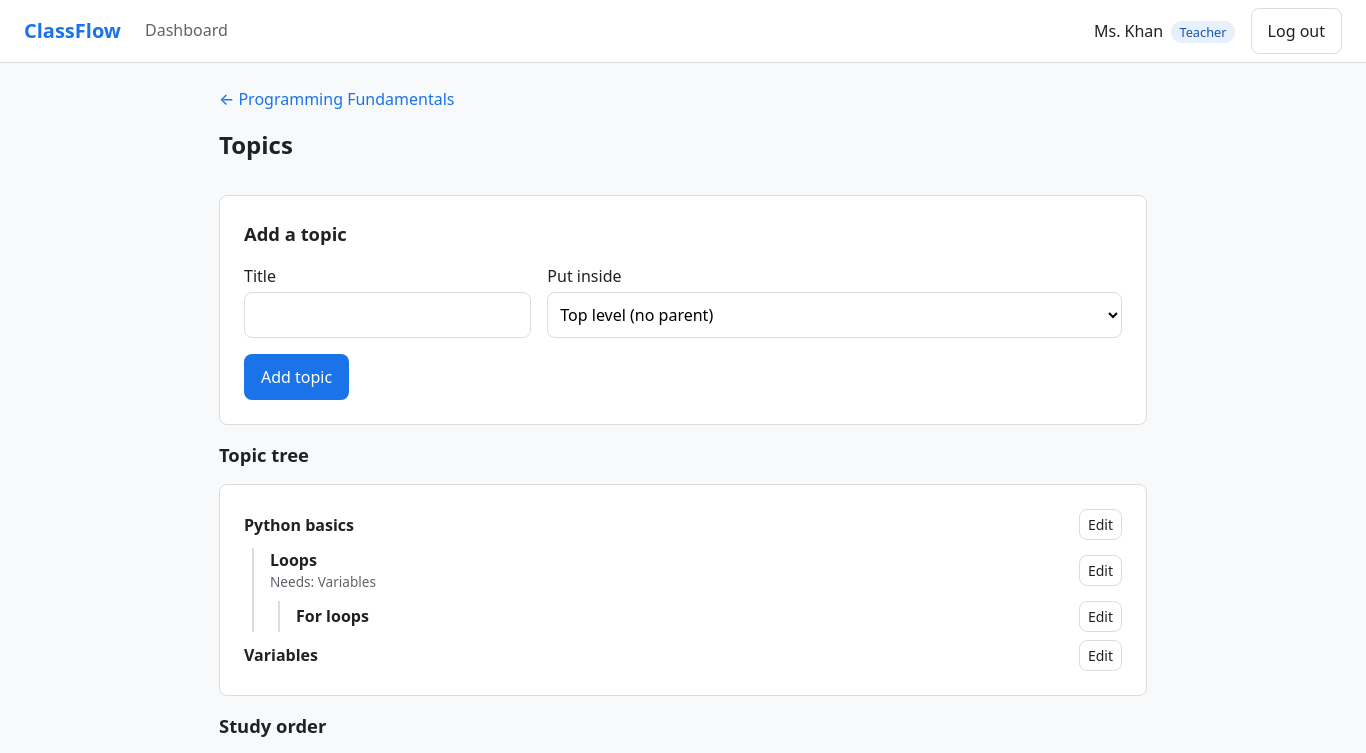
topics page (teacher) › shows the loop message when the backend refuses a prerequisite
Click the 4th button "Edit" at (1100, 655), box left=1079, top=640, right=1122, bottom=671
(page scrolled)
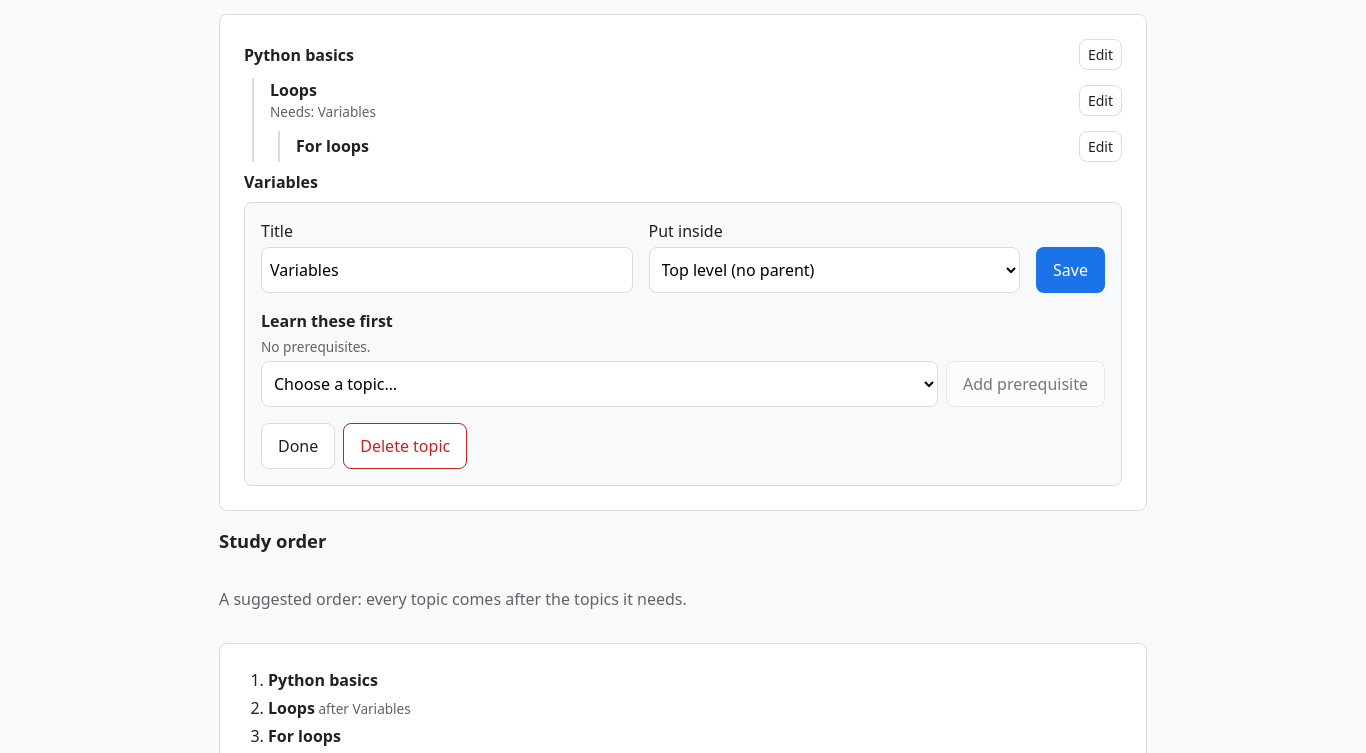
Select "· Loops" in the dropdown named "Prerequisite to add" at (600, 384), box left=261, top=361, right=938, bottom=407
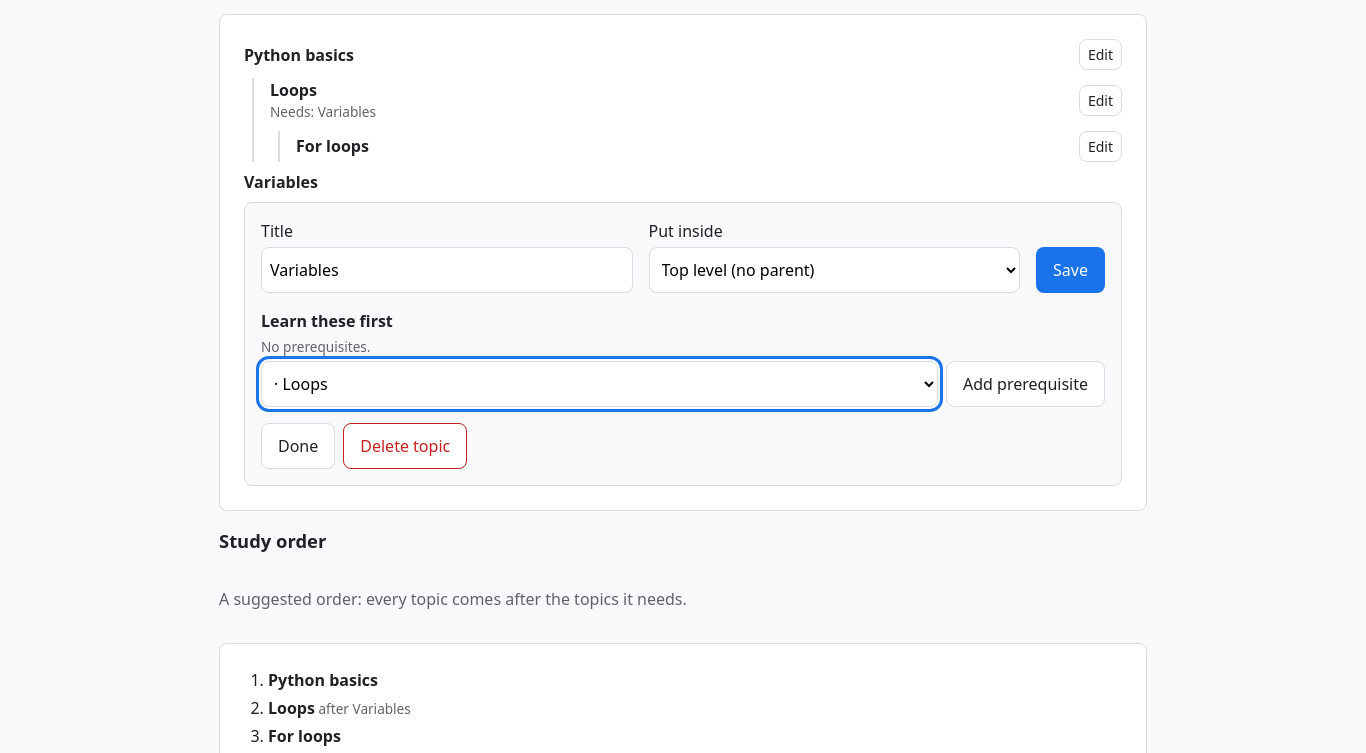
Click the button "Add prerequisite" at (1026, 384), box left=946, top=361, right=1105, bottom=407
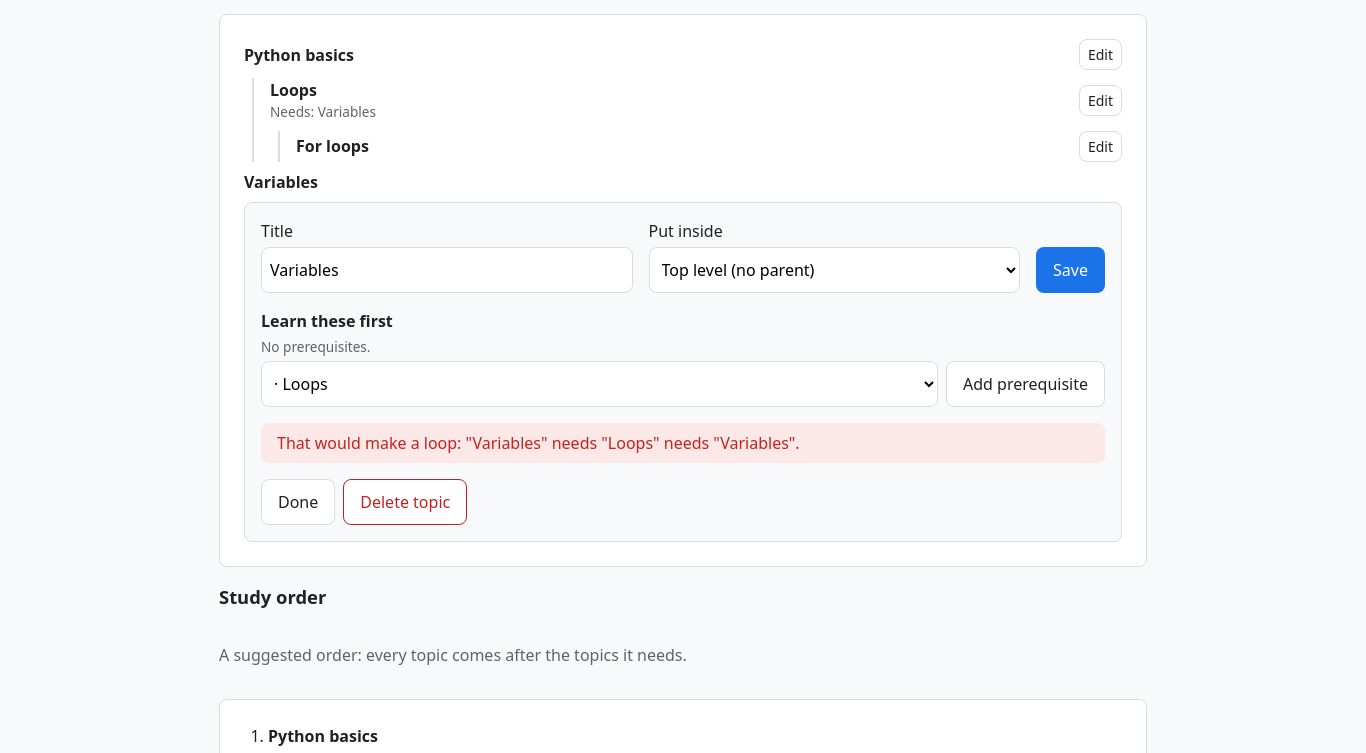
Expected: the message reads "That would make a loop: \"Variables\" needs \"Loops\" needs \"Variables\".", left=277, top=432, right=800, bottom=454
